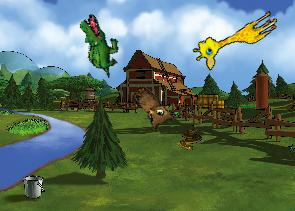crocodile: (65, 11, 132, 79)
giraffe: (189, 0, 281, 73)
owl: (123, 84, 177, 134)
